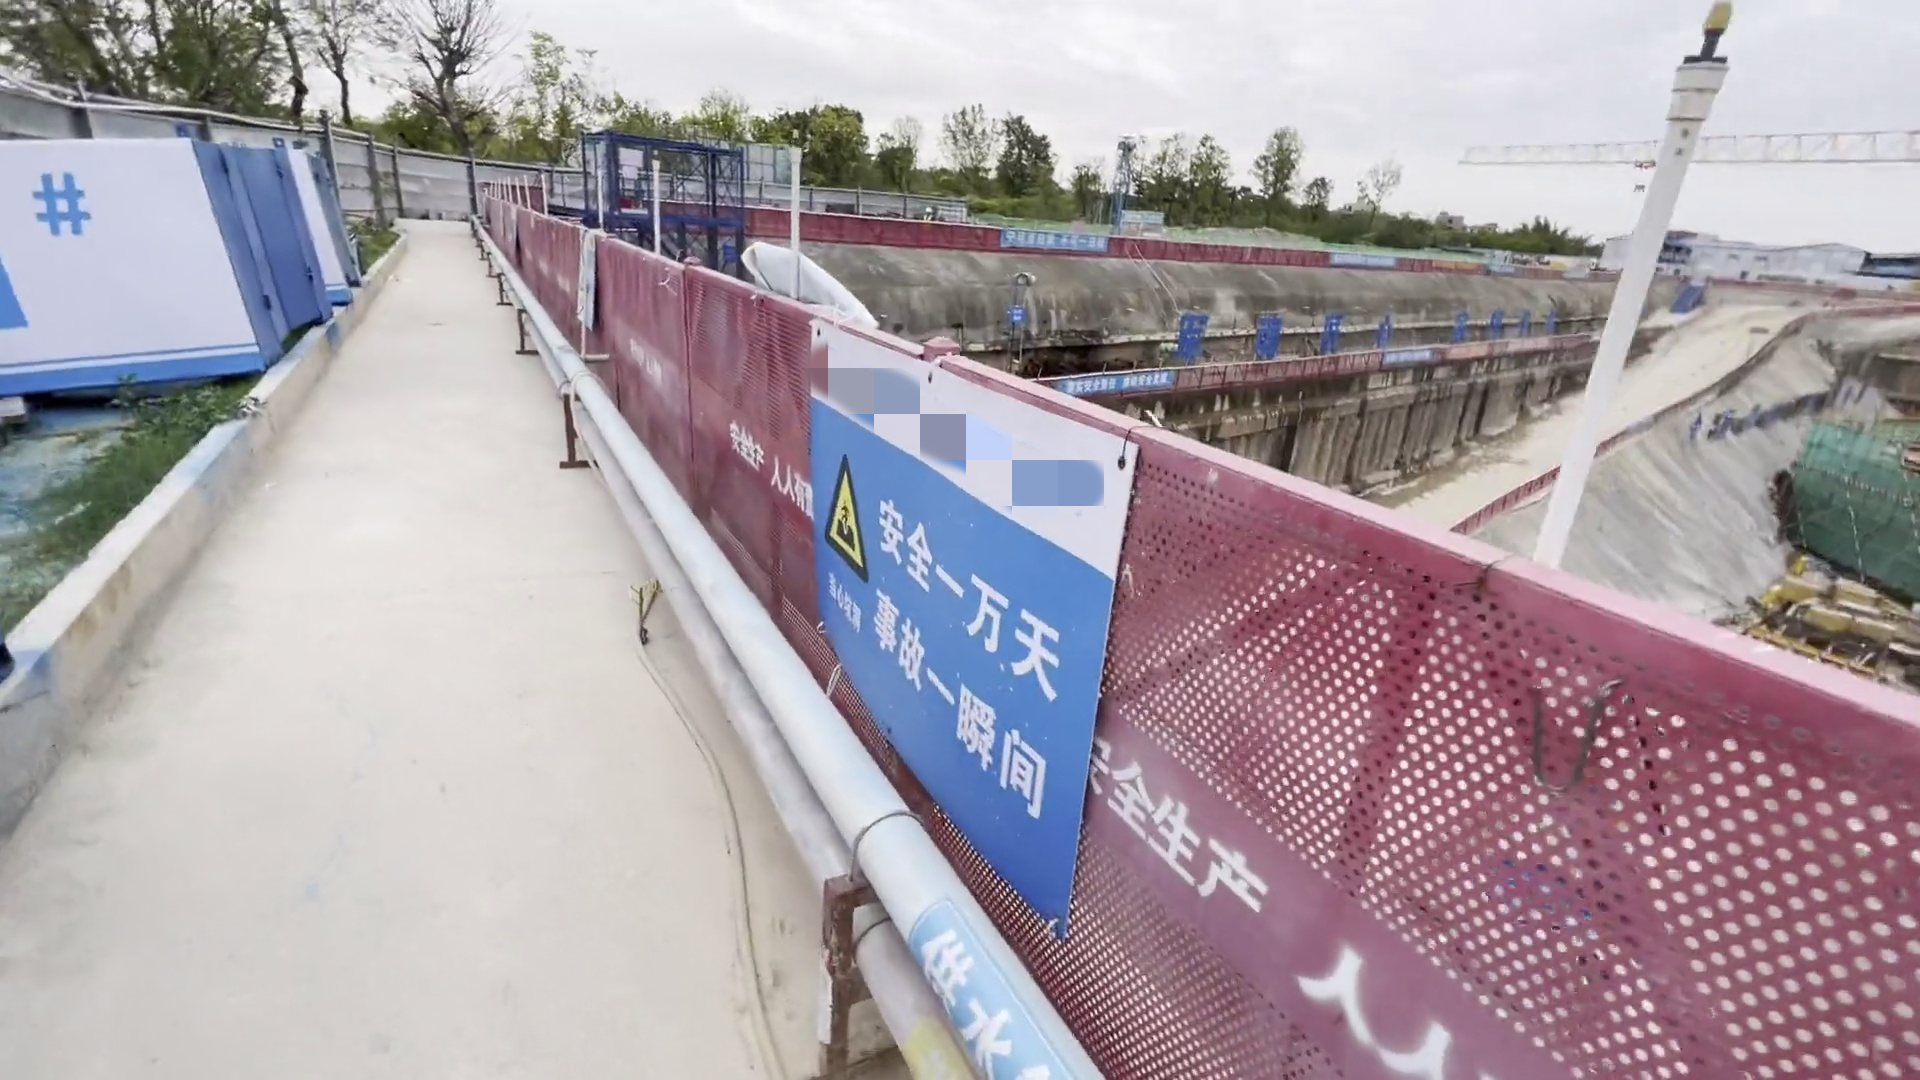fence: (567, 297, 1898, 1080)
slogan: (793, 313, 1145, 915)
